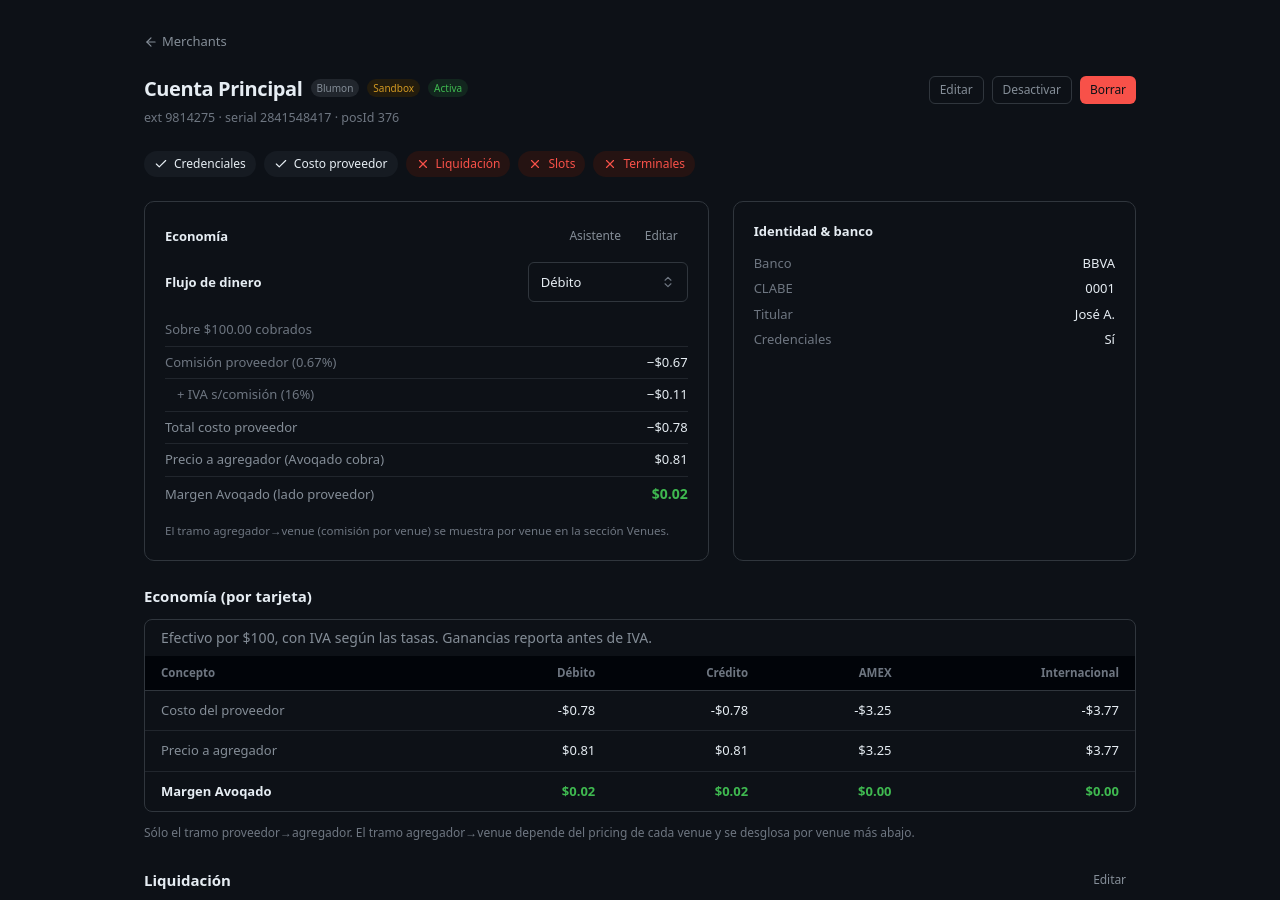
Test: MerchantDetailPage › Editar economía con la economía cargando DESPUÉS que la cuenta › abre el formulario con lo GUARDADO (0.67, 0.70, 0 %, sin IVA), no con el borrador vacío
The image size is (1280, 900).
Expected: the heading "Cuenta Principal" is shown, [144,76,302,100]
Expected: the text "Precio a agregador (Avoqado cobra)" is shown, [165,450,384,470]
Click the button "Editar" next to "Identidad & banco" at coordinates (661, 236), box [635,222,688,250]
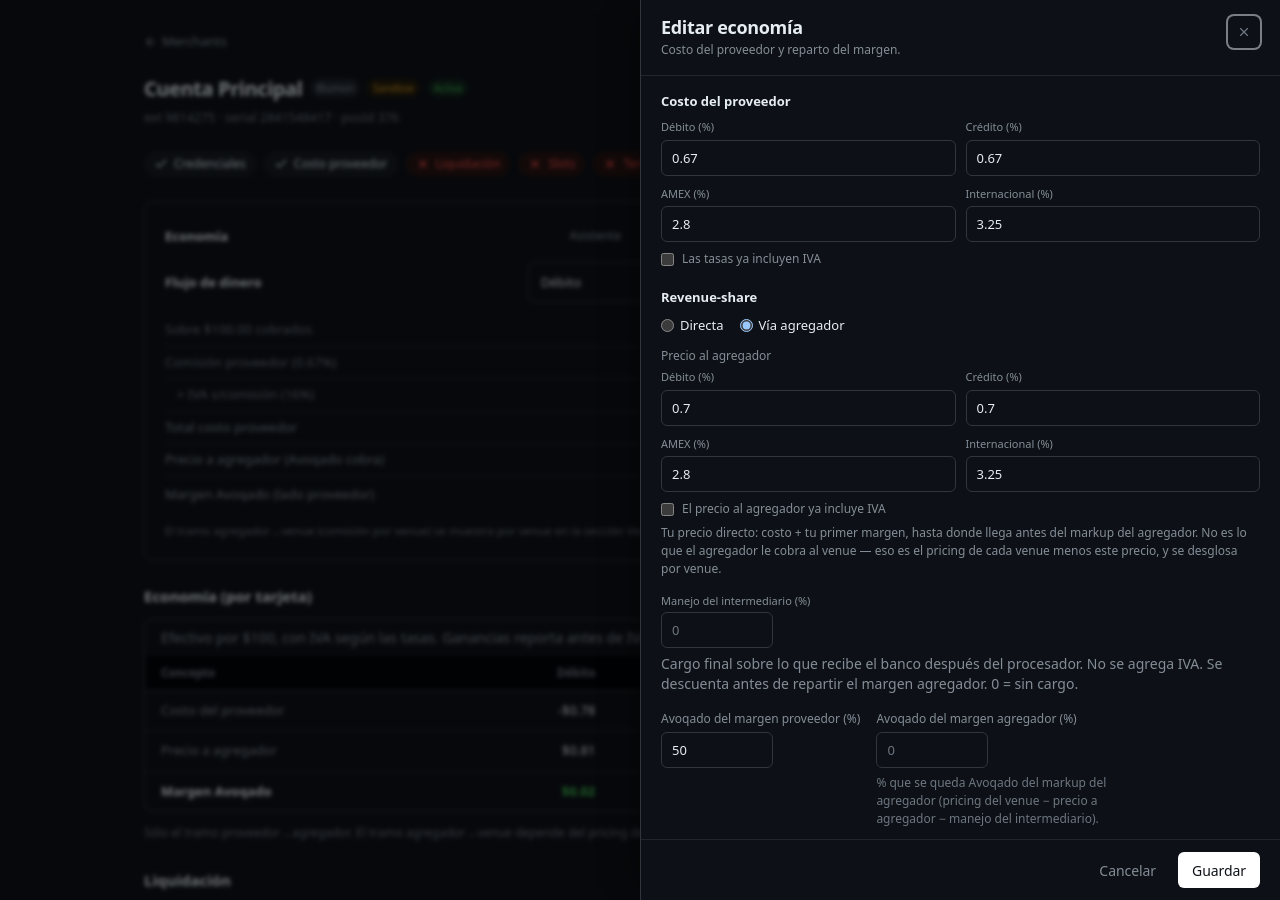
Now the heading "Editar economía" is shown, box [661,15,803,39]
Now the field with id "cost-DEBIT" holds "0.67", box [661,140,956,176]
Now the checkbox labelled "Las tasas ya incluyen IVA" is not checked, box [661,252,674,266]
